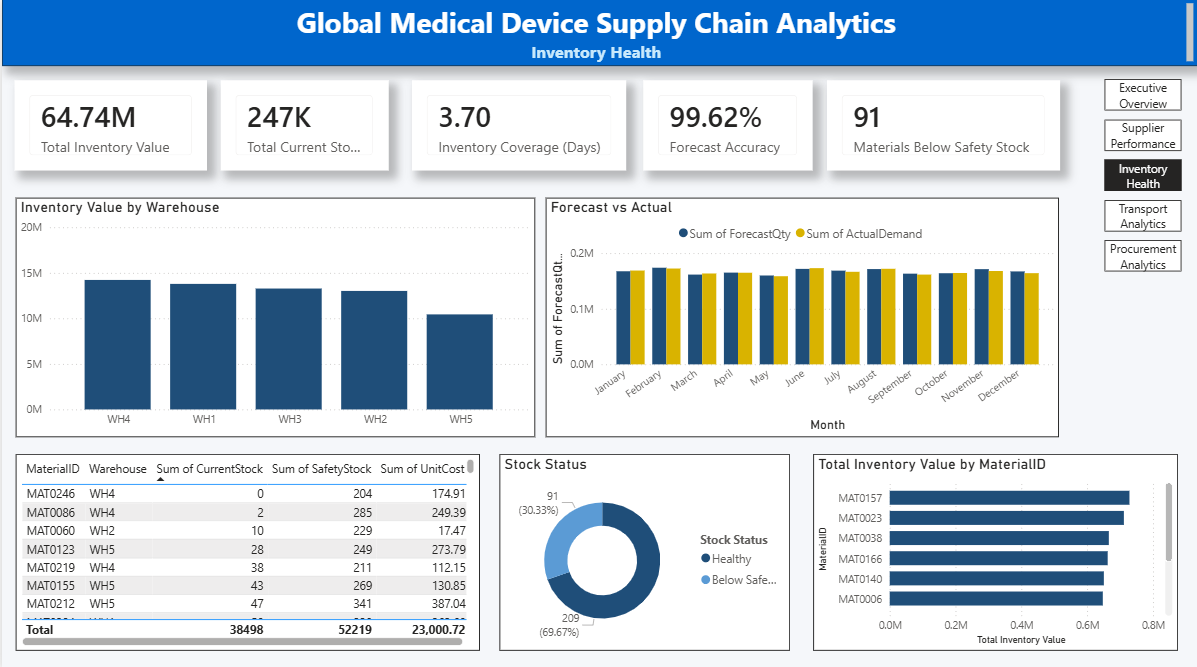

This screenshot's page, from the dashboard's own definition file:
{"tool":"powerbi","page":{"name":"Inventory Health","canvas":[1366,768],"ordinal":3},"visuals":[{"type":"shape","box":[0,0,1366.7,76.7],"z":0},{"type":"textbox","box":[0,0,1366.7,76.7],"z":1000},{"type":"cardVisual","fields":{"Data":["DAX Measures.Total Inventory Value"]},"box":[14,92.3,220,103.3],"z":3000},{"type":"cardVisual","fields":{"Data":["DAX Measures.Total Current Stock"]},"box":[250.7,92.3,191.7,103.3],"z":4000},{"type":"cardVisual","fields":{"Data":["DAX Measures.Inventory Coverage (Days)"]},"box":[469,92.3,245,103.3],"z":5000},{"type":"cardVisual","fields":{"Data":["DAX Measures.Forecast Accuracy"]},"box":[732.3,92.3,193.3,103.3],"z":6000},{"type":"cardVisual","fields":{"Data":["DAX Measures.Materials Below Safety Stock"]},"box":[942.3,92.3,266.7,103.3],"z":7000},{"type":"clusteredColumnChart","title":"Inventory Value by Warehouse","fields":{"Category":["Inventory.Warehouse"],"Y":["DAX Measures.Total Inventory Value"]},"box":[15,226.7,593.3,273.3],"z":8000},{"type":"clusteredColumnChart","title":"Forecast vs Actual","fields":{"Category":["Demand_Forecast.Month.Variation.Date Hierarchy.Month"],"Y":["Sum(Demand_Forecast.ForecastQty)","Sum(Demand_Forecast.ActualDemand)"]},"box":[621.7,226.7,586.7,273.3],"z":9000},{"type":"donutChart","title":"Stock Status","fields":{"Category":["Inventory.Stock Status"],"Y":["CountNonNull(Inventory.MaterialID)"]},"box":[568.3,519.7,331.7,225],"z":10000},{"type":"tableEx","fields":{"Values":["Inventory.MaterialID","Inventory.Warehouse","Sum(Inventory.CurrentStock)","Sum(Inventory.SafetyStock)","Sum(Inventory.UnitCost)"]},"box":[15,519.7,530,225],"z":11000},{"type":"clusteredBarChart","fields":{"Category":["Inventory.MaterialID"],"Y":["DAX Measures.Total Inventory Value"]},"box":[927.7,519.7,416.7,225],"z":12000},{"type":"pageNavigator","box":[1260,91.7,88.3,223.3],"z":13000}]}

Visuals, with their boxes in screenshot pixels (x1, y1, x2, y2), scaled from the page's 1366x768 canvas onto the 1197x667 screenshot:
shape: {"x1": 0, "y1": 0, "x2": 1196, "y2": 67}
textbox: {"x1": 0, "y1": 0, "x2": 1196, "y2": 67}
cardVisual - DAX Measures.Total Inventory Value: {"x1": 12, "y1": 80, "x2": 205, "y2": 170}
cardVisual - DAX Measures.Total Current Stock: {"x1": 220, "y1": 80, "x2": 388, "y2": 170}
cardVisual - DAX Measures.Inventory Coverage (Days): {"x1": 411, "y1": 80, "x2": 626, "y2": 170}
cardVisual - DAX Measures.Forecast Accuracy: {"x1": 642, "y1": 80, "x2": 811, "y2": 170}
cardVisual - DAX Measures.Materials Below Safety Stock: {"x1": 826, "y1": 80, "x2": 1059, "y2": 170}
"Inventory Value by Warehouse" clusteredColumnChart: {"x1": 13, "y1": 197, "x2": 533, "y2": 434}
"Forecast vs Actual" clusteredColumnChart: {"x1": 545, "y1": 197, "x2": 1059, "y2": 434}
"Stock Status" donutChart: {"x1": 498, "y1": 451, "x2": 789, "y2": 647}
tableEx - Inventory.MaterialID x Inventory.Warehouse: {"x1": 13, "y1": 451, "x2": 478, "y2": 647}
clusteredBarChart - Inventory.MaterialID x DAX Measures.Total Inventory Value: {"x1": 813, "y1": 451, "x2": 1178, "y2": 647}
pageNavigator: {"x1": 1104, "y1": 80, "x2": 1181, "y2": 274}
